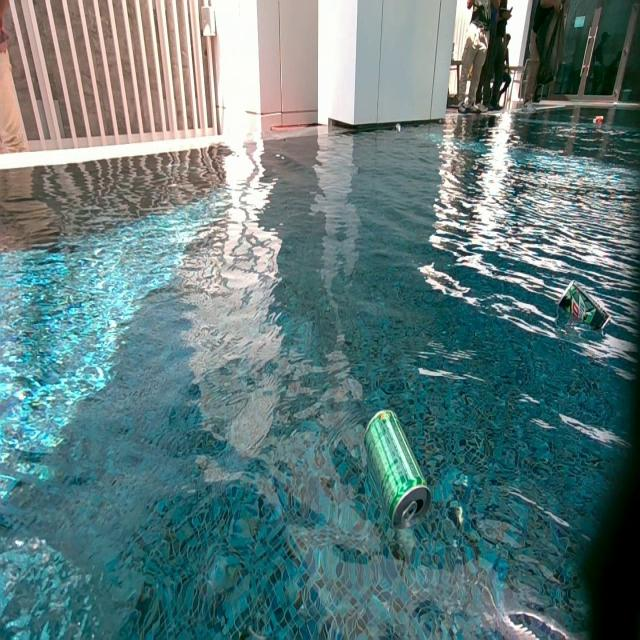Cans: (364, 407, 435, 534), (556, 281, 613, 337), (594, 115, 604, 124), (395, 125, 401, 134)
